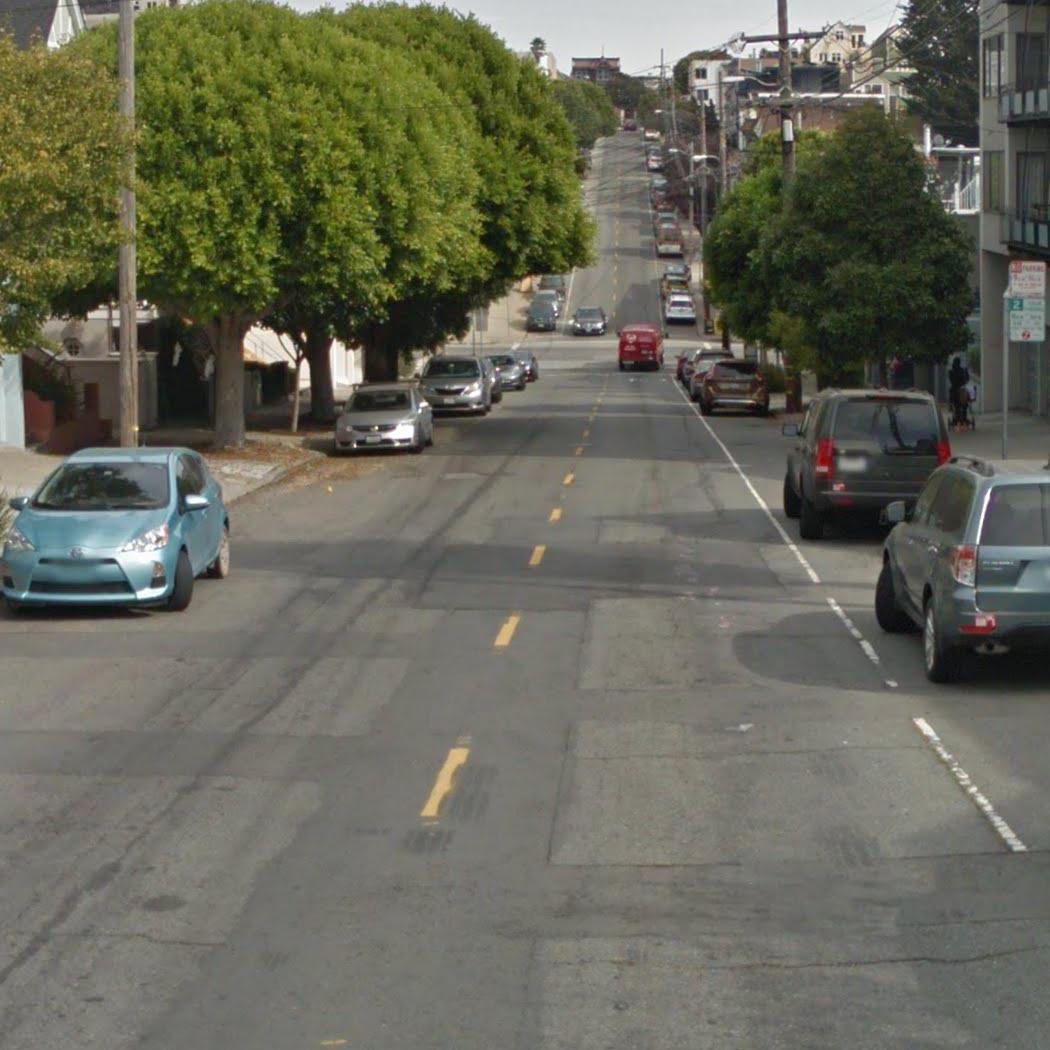2 Hour Parking: (1007, 298, 1050, 348)
No Parking: (1006, 262, 1050, 300)
